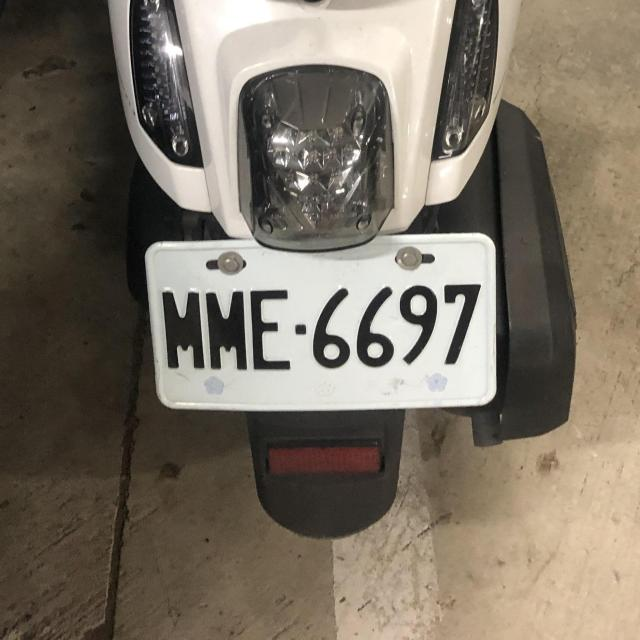W: (137, 220, 500, 423)
